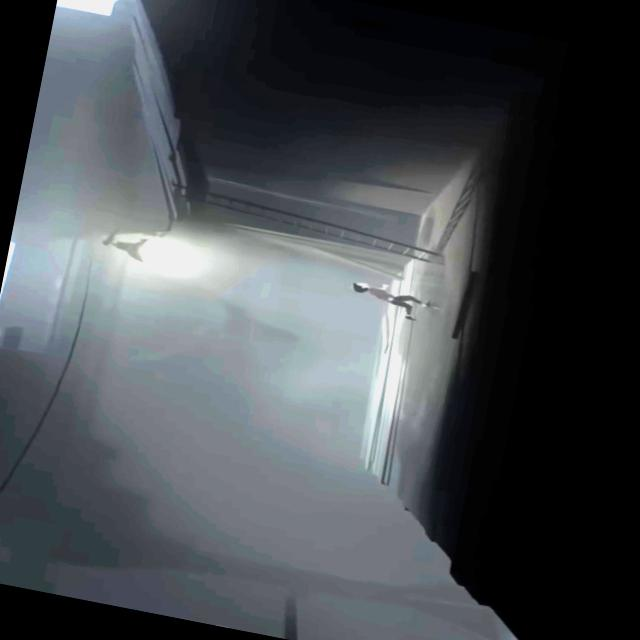boy: (348, 278, 428, 314)
